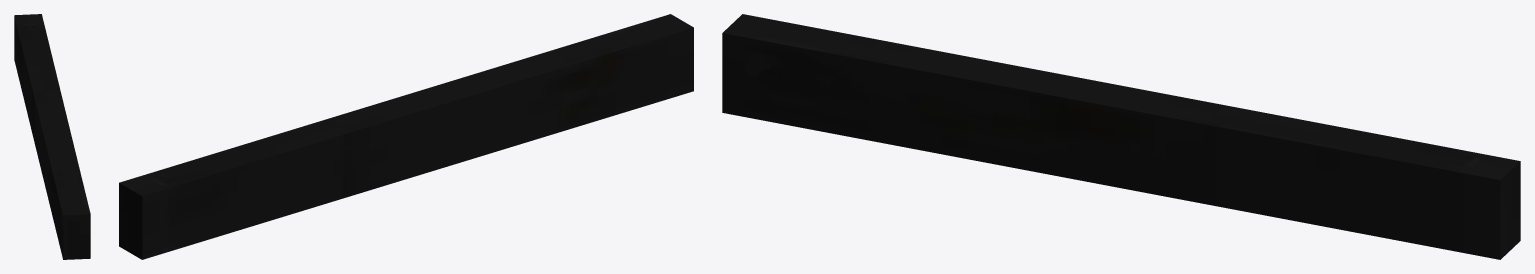
Rendered from support_link__support_arm.glb.
3 views of the same model, side by side, from view 1: azimuth 30°, elevation 25°; view 2: azimuth 150°, elevation 25°; view 3: azimuth 270°, elevation 25° (orthographic). The views are drawn at different scales.
Parts seen in each view (by area): view 1: world; view 2: world; view 3: world.
Part boxes in pixels (x1,y1,x2,y2): world: (14, 14, 90, 259); world: (119, 14, 693, 259); world: (722, 14, 1520, 259).
Bounding box in the file's own units: 0.1431 × 0.032 × 0.2903.
1 material, 1 textured.
